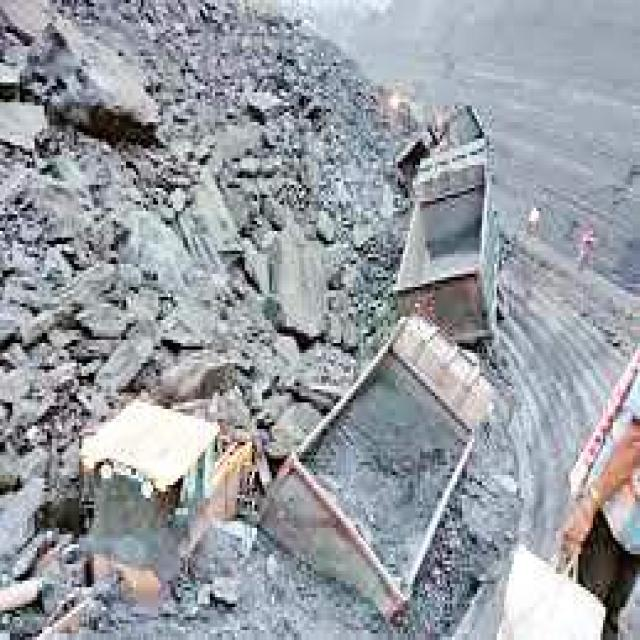dump_truck: (277, 296, 504, 592), (404, 140, 505, 344)
